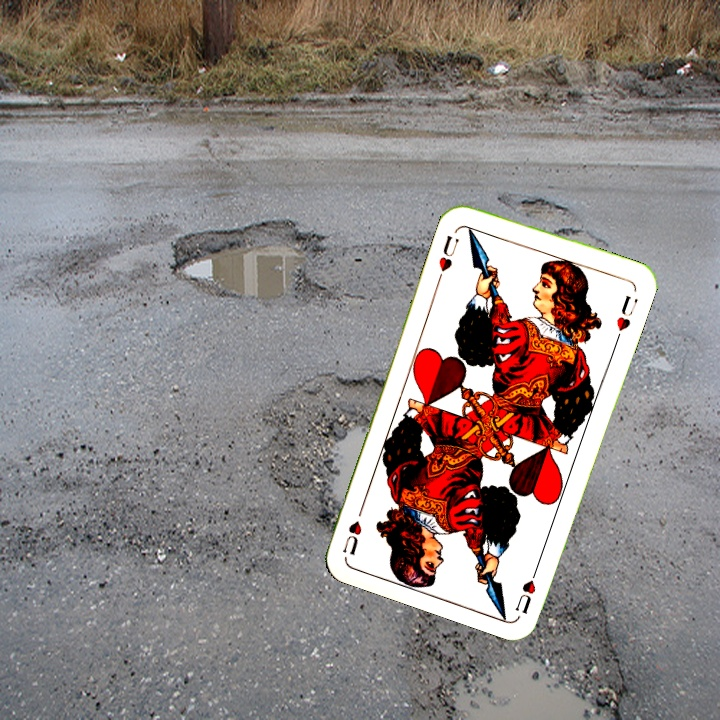HU: (511, 560, 542, 616), (434, 231, 462, 274)
